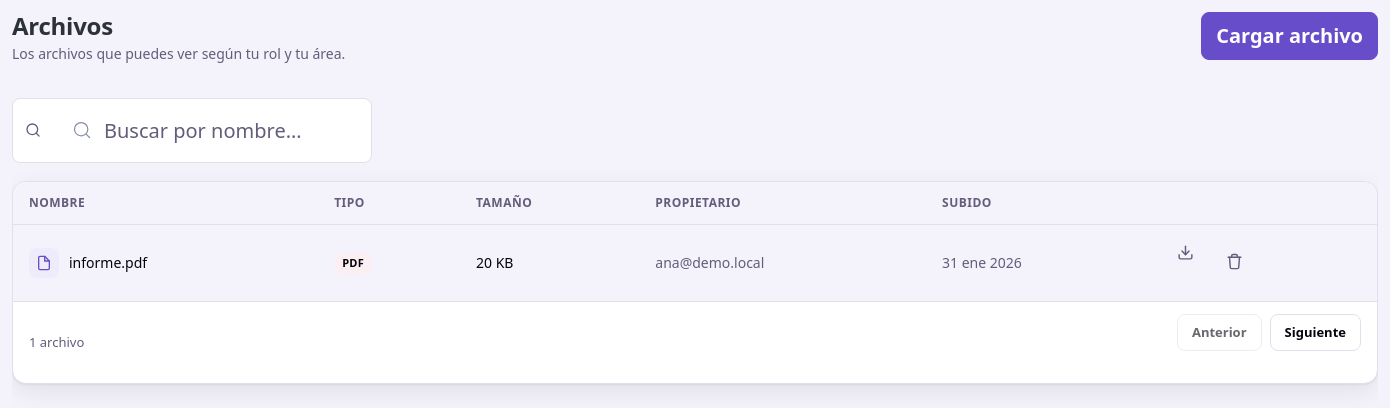
Test: página de archivos › la paginación avanza y retrocede con el cursor
Expected: the text "informe.pdf" is shown, [29,248,147,278]
Click the button "Siguiente": click(1315, 332) [1270,314,1361,351]
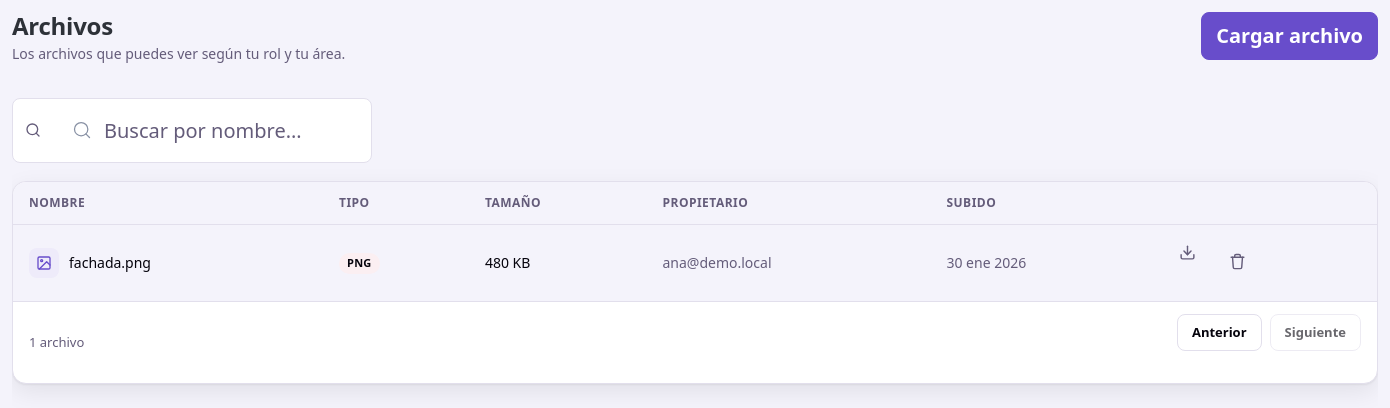
Now the text "fachada.png" is shown, box [29,248,151,278]
Click the button "Anterior": click(1219, 332) [1177,314,1262,351]
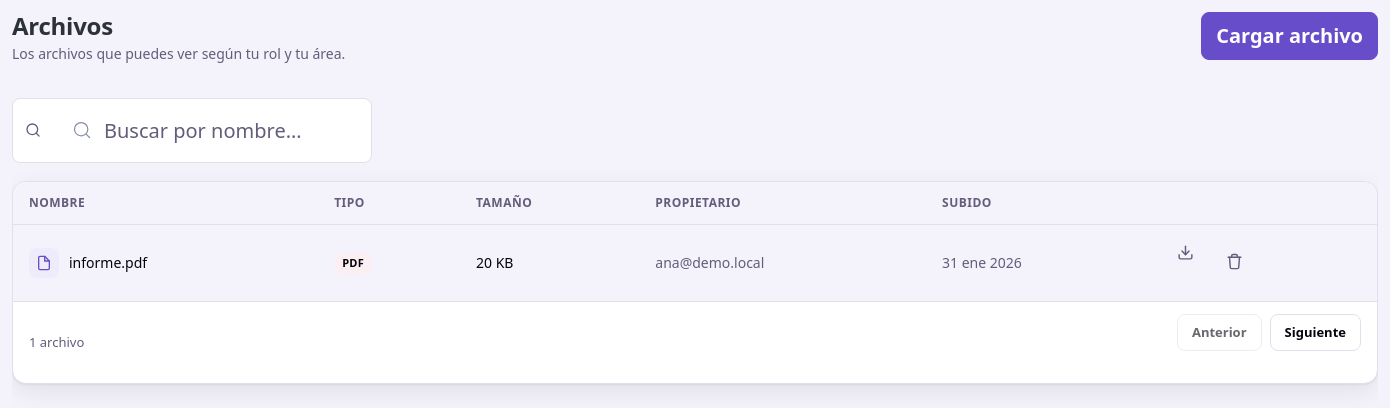
Now the text "informe.pdf" is shown, box [29,248,147,278]
